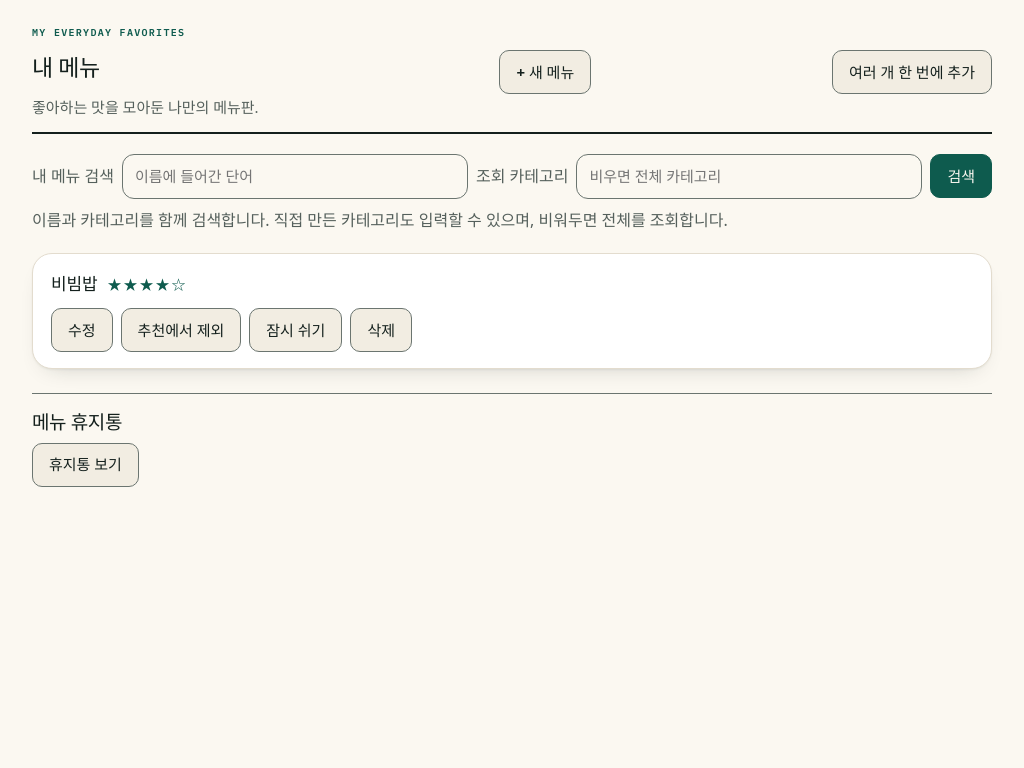
메뉴 이름 검색 › 직접 만든 카테고리와 이름을 제출할 때만 적용하고 다음 페이지에도 유지한다
This screenshot has width=1024, height=768.
Expected: the text "비빔밥" is shown, [51,270,97,298]
Type " 직접 분류 " into the field labelled "조회 카테고리" at (749, 176), box [576,154,922,199]
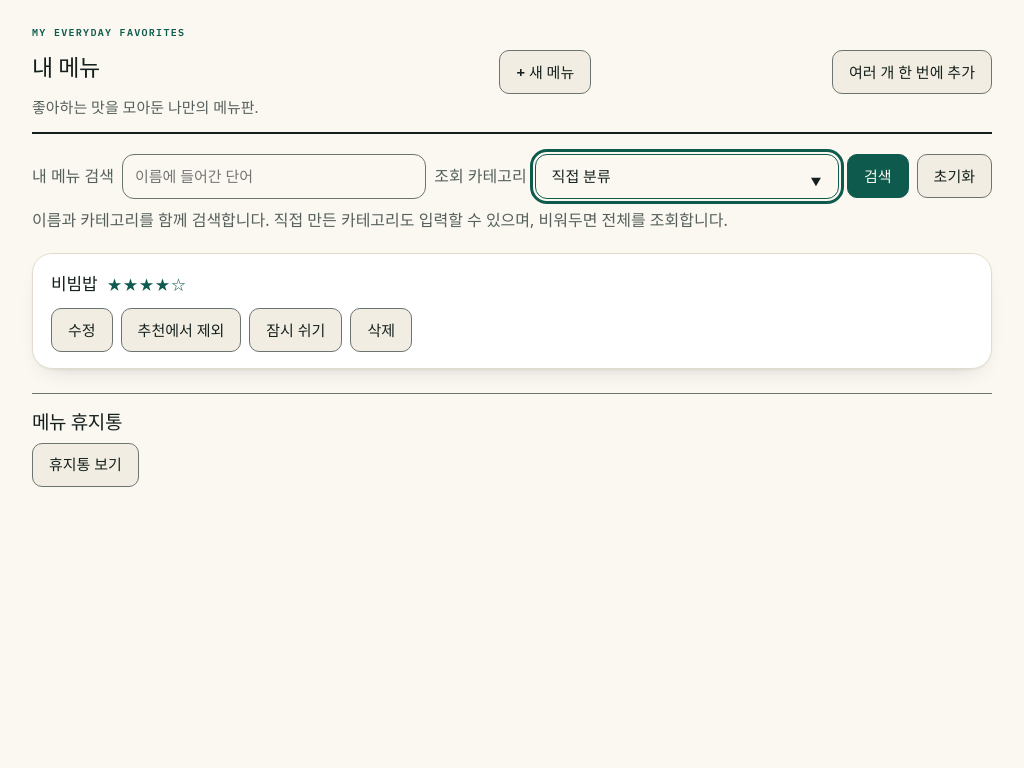
Type " 찌개 " into the search field labelled "내 메뉴 검색" at (274, 176), box [122,154,426,199]
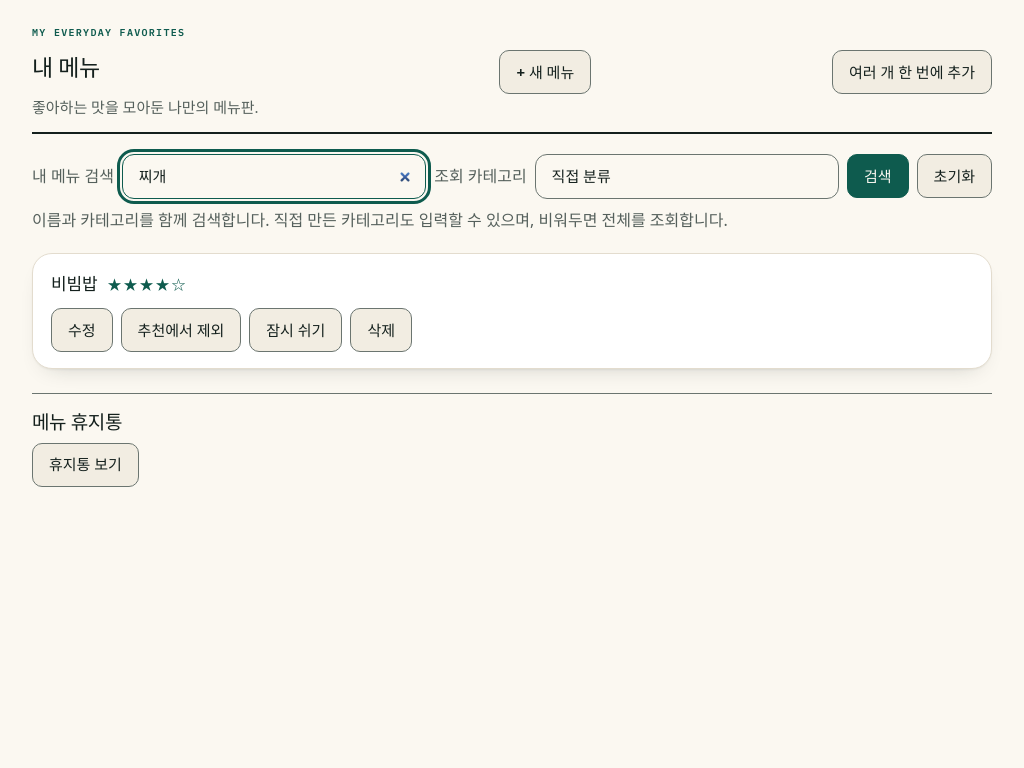
Click the button "검색" at (878, 176), box [847,154,909,198]
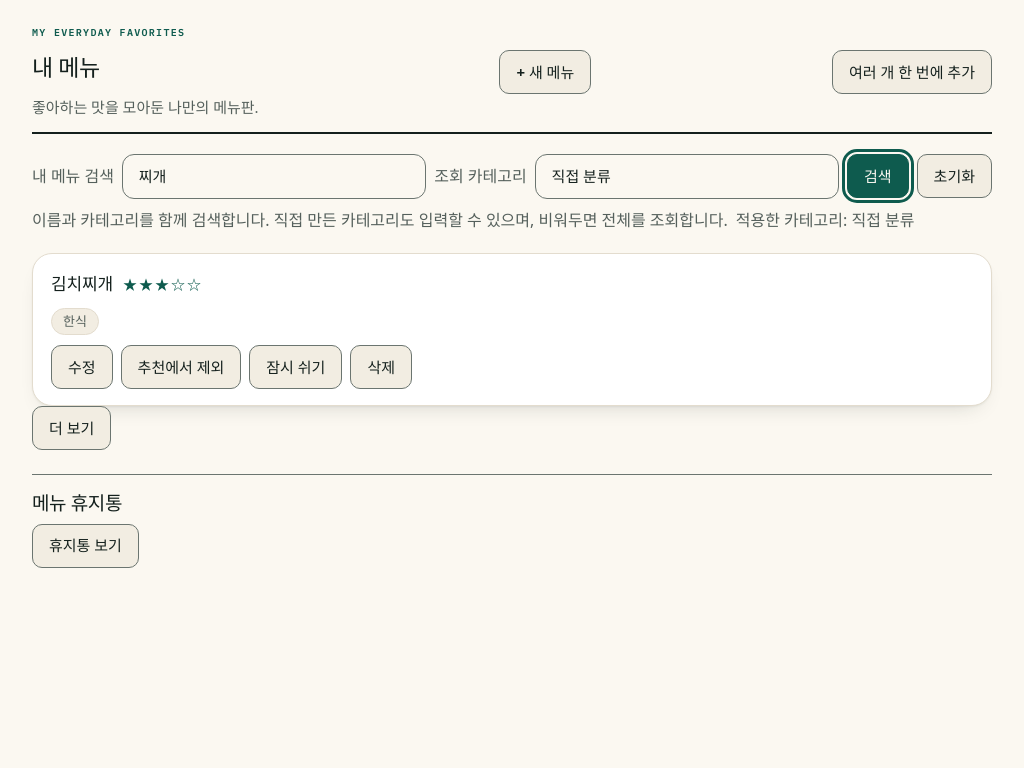
Expected: the text "적용한 카테고리: 직접 분류" is shown, [736,207,914,233]
Click the button "더 보기" at (72, 428), box [32,406,111,450]
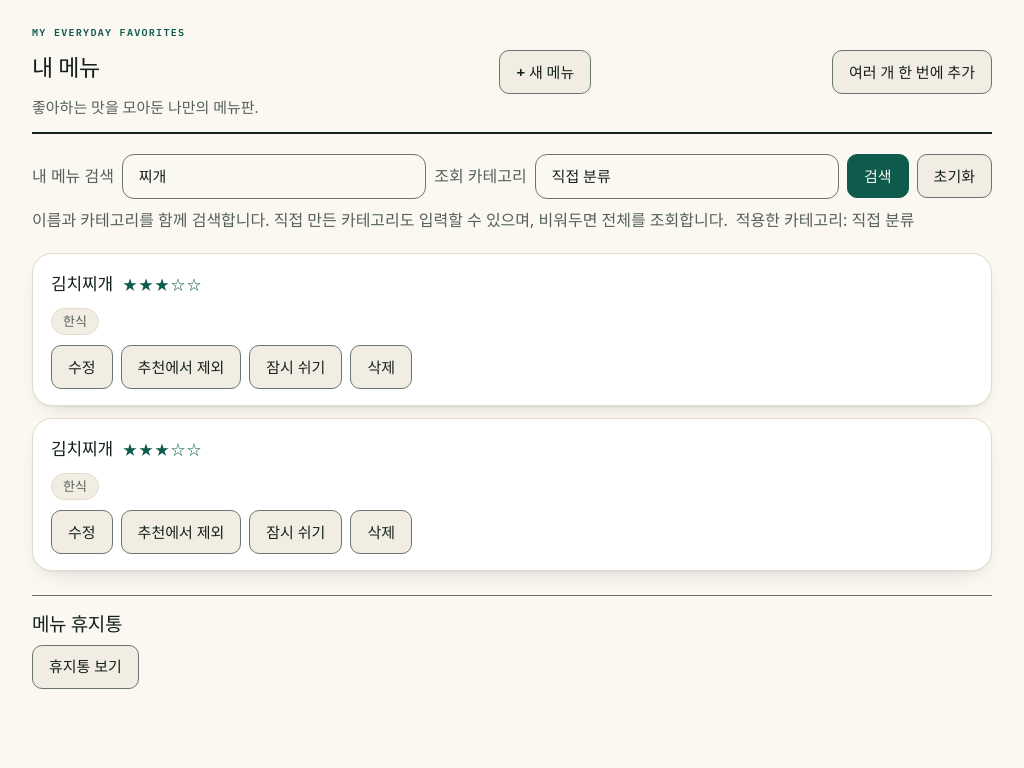
Click the button "초기화" at (954, 176), box [917,154,992,198]
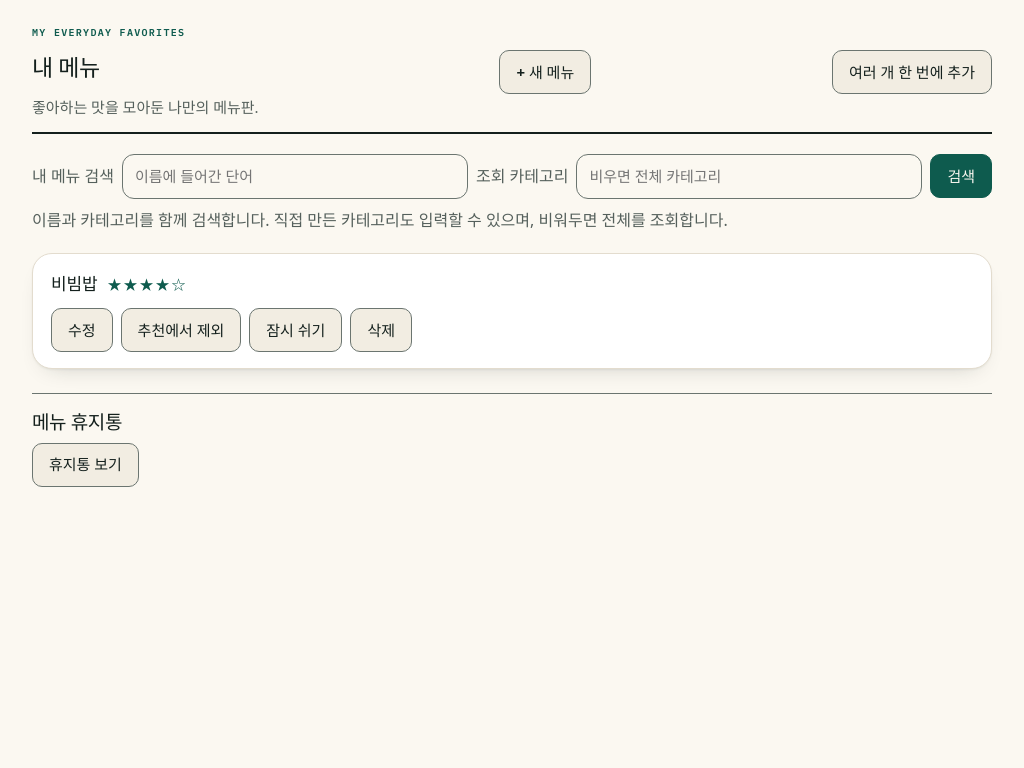
Expected: the text "비빔밥" is shown, [51,270,97,298]
Expected: the field labelled "조회 카테고리" is empty, [576,154,922,199]
Expected: the text "적용한 카테고리:" is gone
